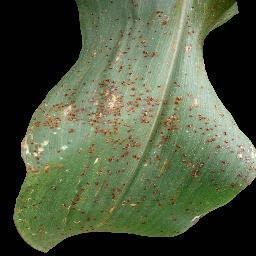Corn_Common_Rust: (78, 1, 201, 234), (14, 62, 78, 251), (199, 87, 256, 216), (201, 0, 246, 40), (202, 40, 215, 87)
